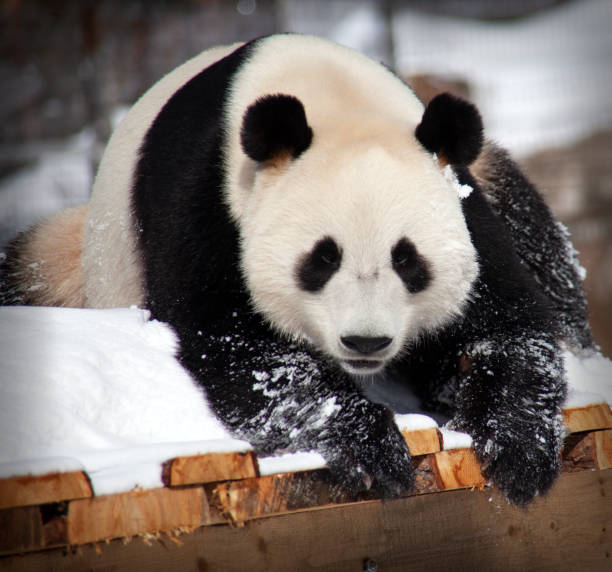panda: (222, 80, 507, 416)
